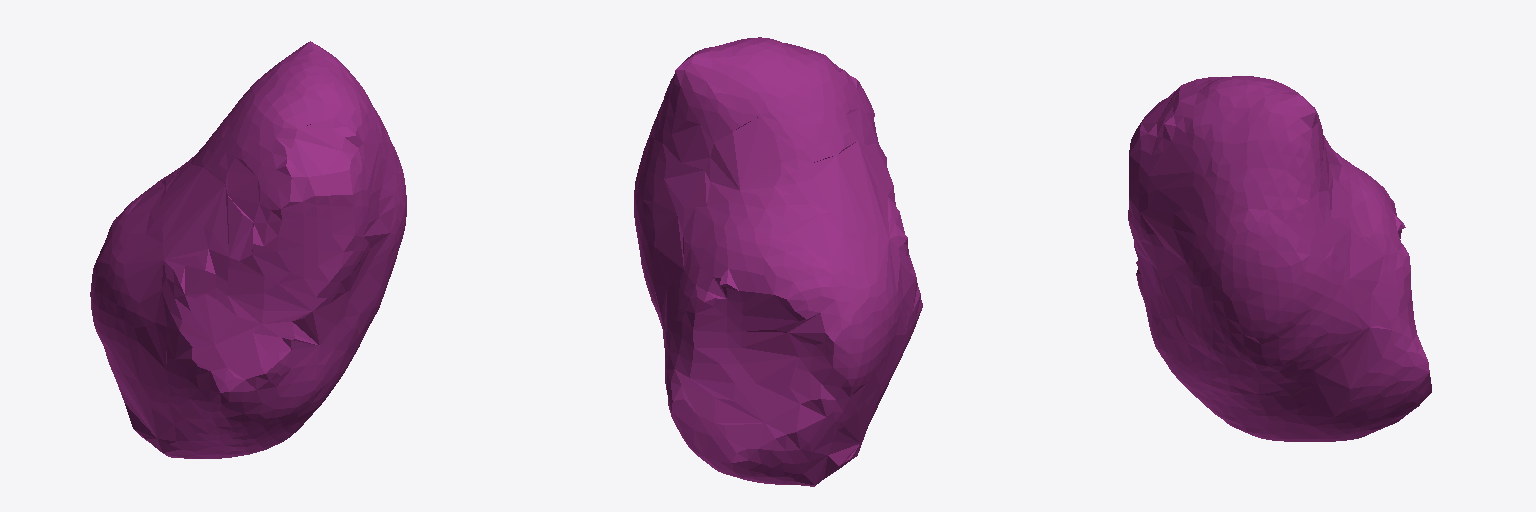
The model's file is Model_10172_LH__Central_amygdaloid_nucleus_(Ce).obj.
3 views of the same model, side by side, from view 1: azimuth 30°, elevation 25°; view 2: azimuth 150°, elevation 25°; view 3: azimuth 270°, elevation 25° (orthographic).
Size of the model in its own units: 1.71 by 2.4 by 1.72.